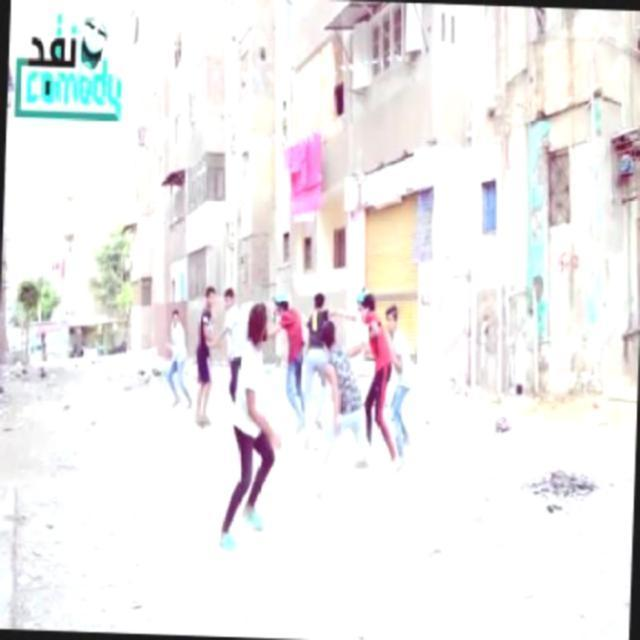fight: (313, 290, 402, 493)
non-fight: (222, 305, 284, 550), (192, 279, 220, 433), (163, 302, 194, 413)
